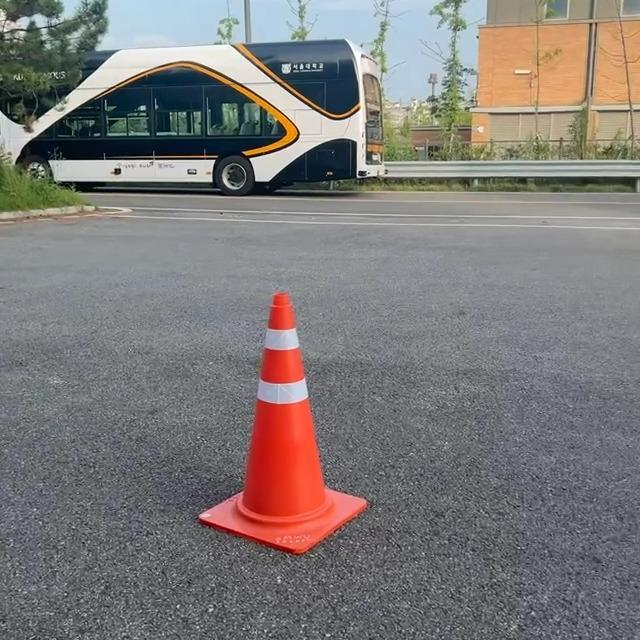fallen_object: (140, 256, 421, 638)
